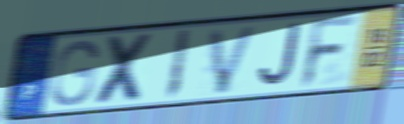F: (297, 13, 362, 91)
G: (48, 38, 101, 108)
I: (162, 27, 193, 103)
J: (256, 21, 303, 91)
V: (207, 23, 261, 97)
X: (92, 31, 157, 107)
